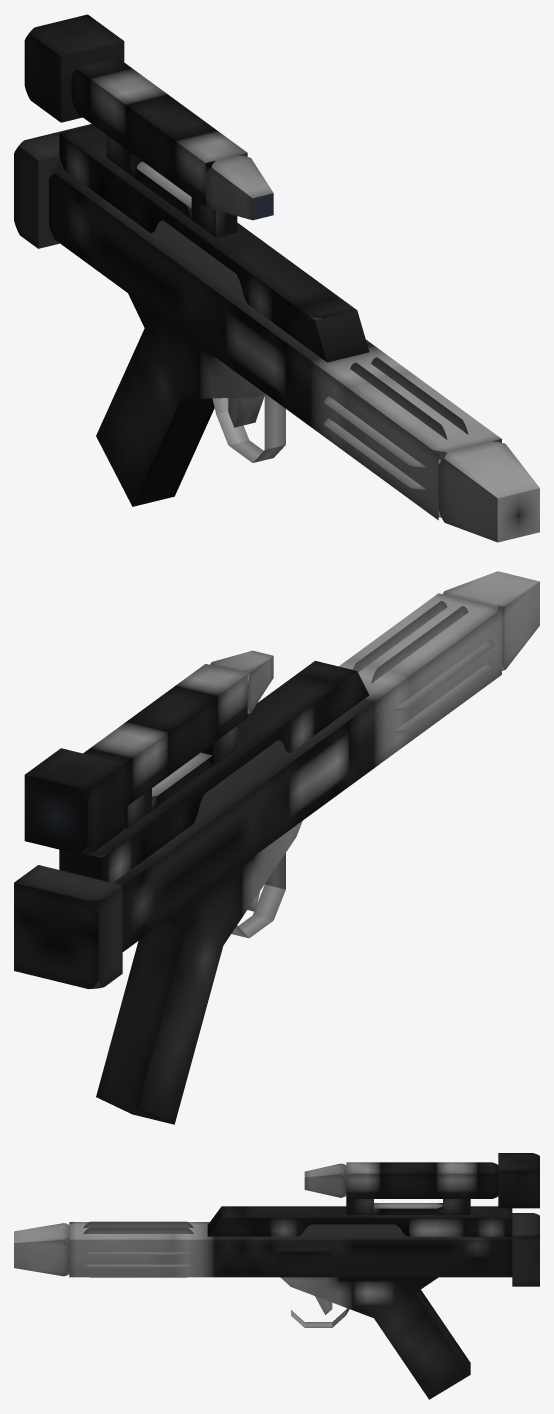
3 views of the same model, one above another, from view 1: azimuth 30°, elevation 25°; view 2: azimuth 150°, elevation 25°; view 3: azimuth 270°, elevation 25° (orthographic). The views are drawn at different scales.
Parts seen in each view (by area): view 1: DH17_Cube.033; view 2: DH17_Cube.033; view 3: DH17_Cube.033.
Boxes of the visible parts, <box> form: DH17_Cube.033: <box>14,14,539,542</box>; DH17_Cube.033: <box>14,571,539,1124</box>; DH17_Cube.033: <box>14,1153,539,1399</box>.
Size of the model in its own units: 0.45 by 1.85 by 3.8.
